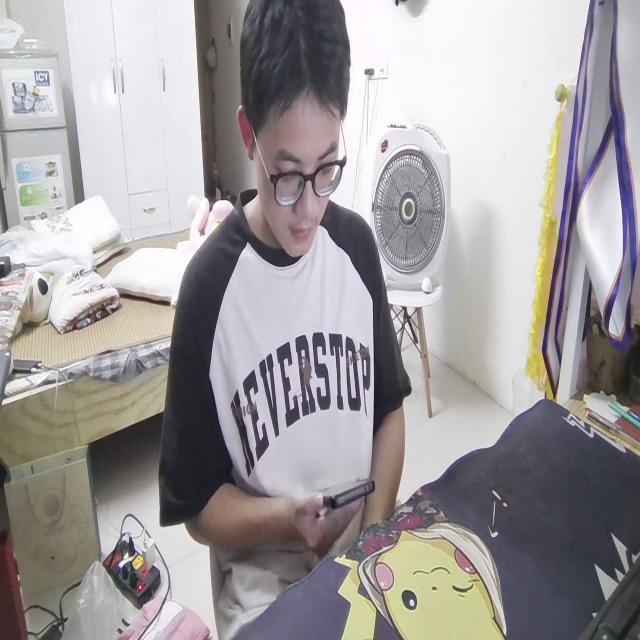phone: (316, 469, 374, 510)
student: (154, 0, 412, 635)
